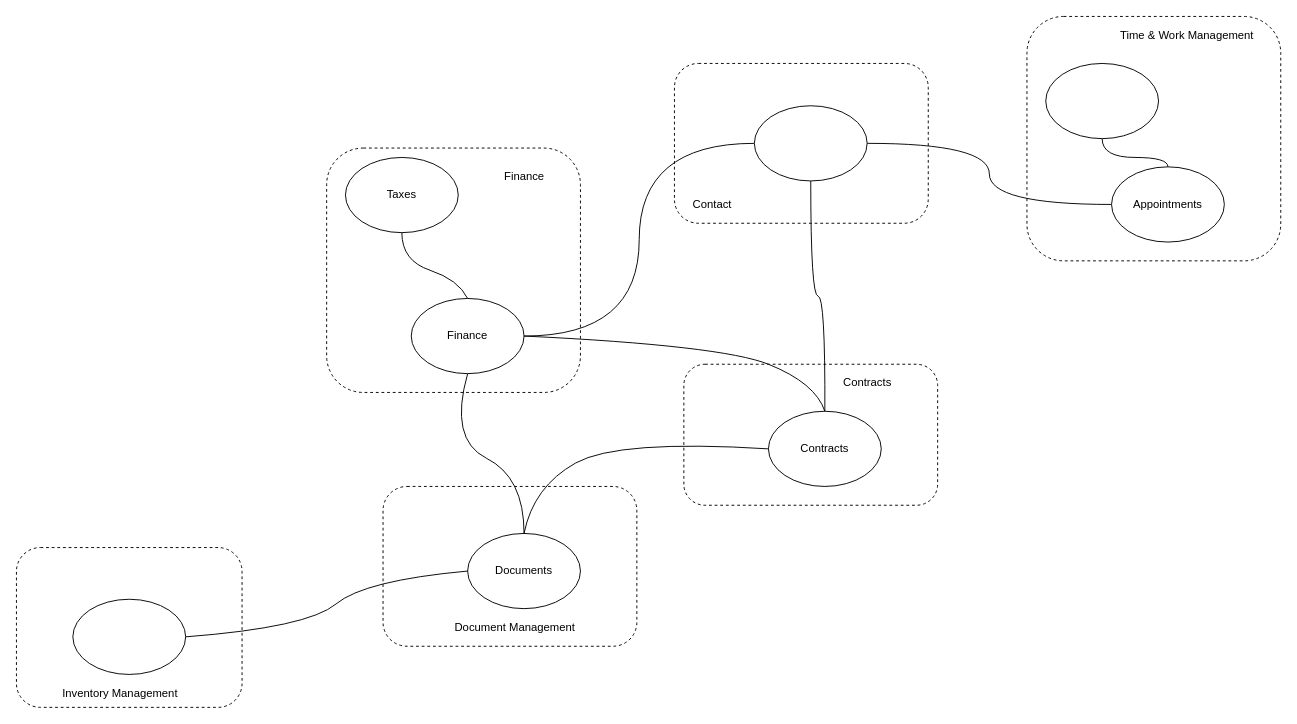
Image size: 1297x724. Some labels were removed from this diagram. Here are the shapes that lost their labels. From the top down, the box of each, then its label:
(1045, 63, 1159, 139): Task
(753, 105, 867, 181): Contacts
(72, 598, 186, 674): Inventory
